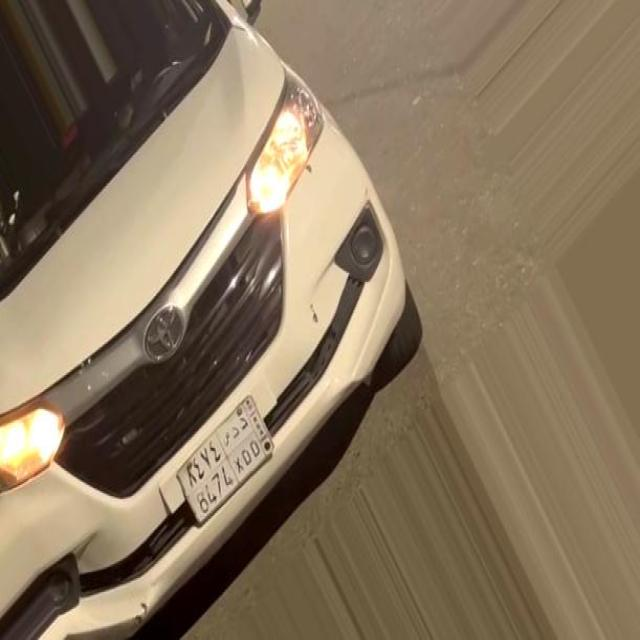Car-plate: (164, 375, 292, 547)
